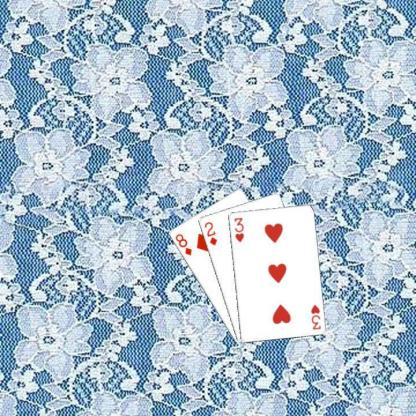2D: (202, 219, 218, 247)
3H: (308, 301, 322, 330), (232, 215, 245, 243)
8D: (172, 231, 193, 257)
